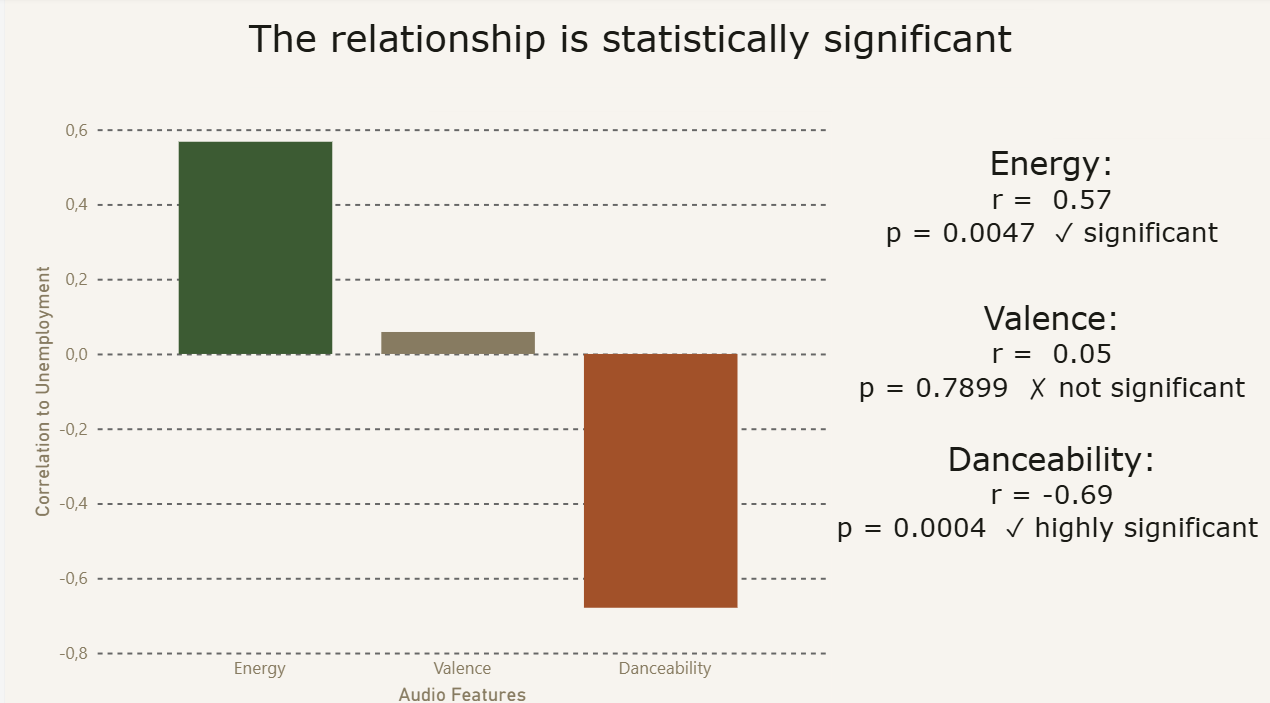

Layout of this report page (visuals, bound fields, positions):
{"tool":"powerbi","page":{"name":"Correlation ≠ causation","canvas":[1280,720],"ordinal":1},"visuals":[{"type":"columnChart","fields":{"Category":["correlation_clean.Faktor"],"Y":["Sum(correlation_clean.Korrelation)"]},"box":[21.7,116.7,813.3,603.3],"z":0},{"type":"textbox","box":[835,143.3,445,576.7],"z":1000},{"type":"textbox","box":[241,13.6,798,78.7],"z":3000}]}

Visuals, with their boxes in screenshot pixels (x1, y1, x2, y2), scaled from the page's 1280x720 canvas onto the 1270x703 screenshot:
columnChart - correlation_clean.Faktor x Sum(correlation_clean.Korrelation): (x1=22, y1=114, x2=828, y2=702)
textbox: (x1=828, y1=140, x2=1269, y2=702)
textbox: (x1=239, y1=13, x2=1031, y2=90)
